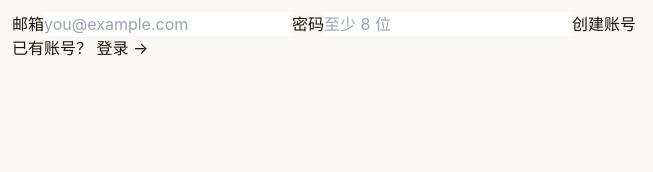
Test: EmailAuthForm › surfaces thrown submit errors and resets submitting state
The width and height of the screenshot is (653, 172).
Type "hello@viby.ai" into the field labelled "邮箱" at point(168, 24), box [44,12,292,36]
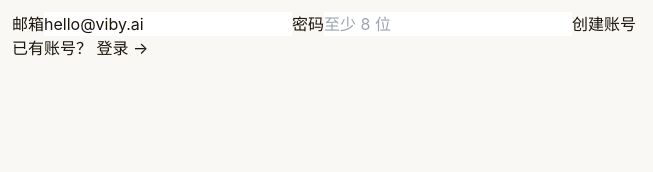
Type "pass word" into the password field labelled "密码" at point(448, 24), box [324,12,572,36]
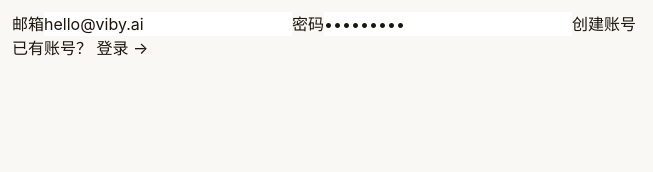
Click the button "创建账号" at point(604, 24), box [572,12,636,36]
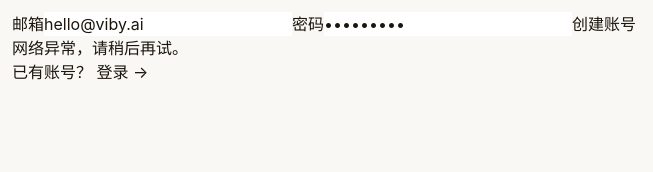
Now the text "网络异常，请稍后再试。" is shown, box [12,38,188,58]
